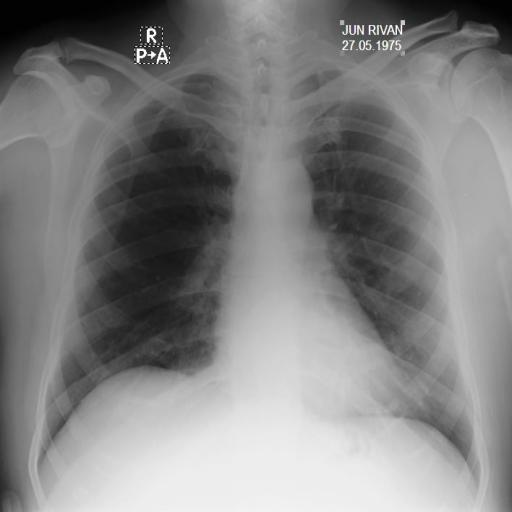kardiomegali: (31, 22, 488, 498)
